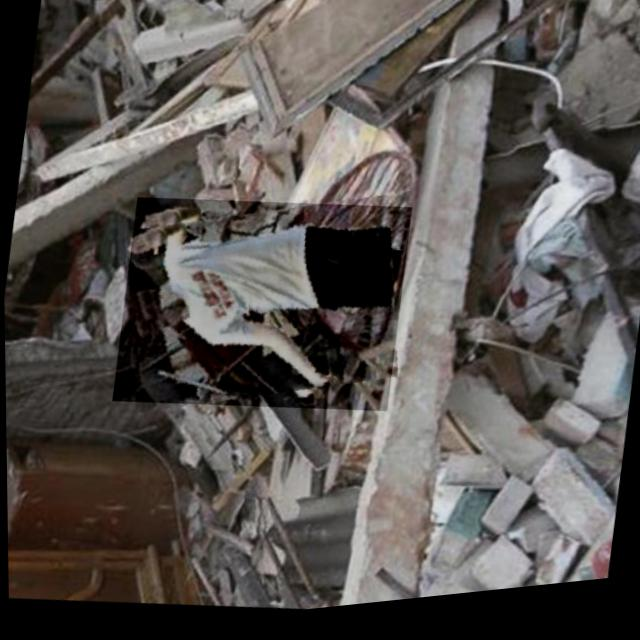Person in Rubble: (108, 177, 414, 441)
